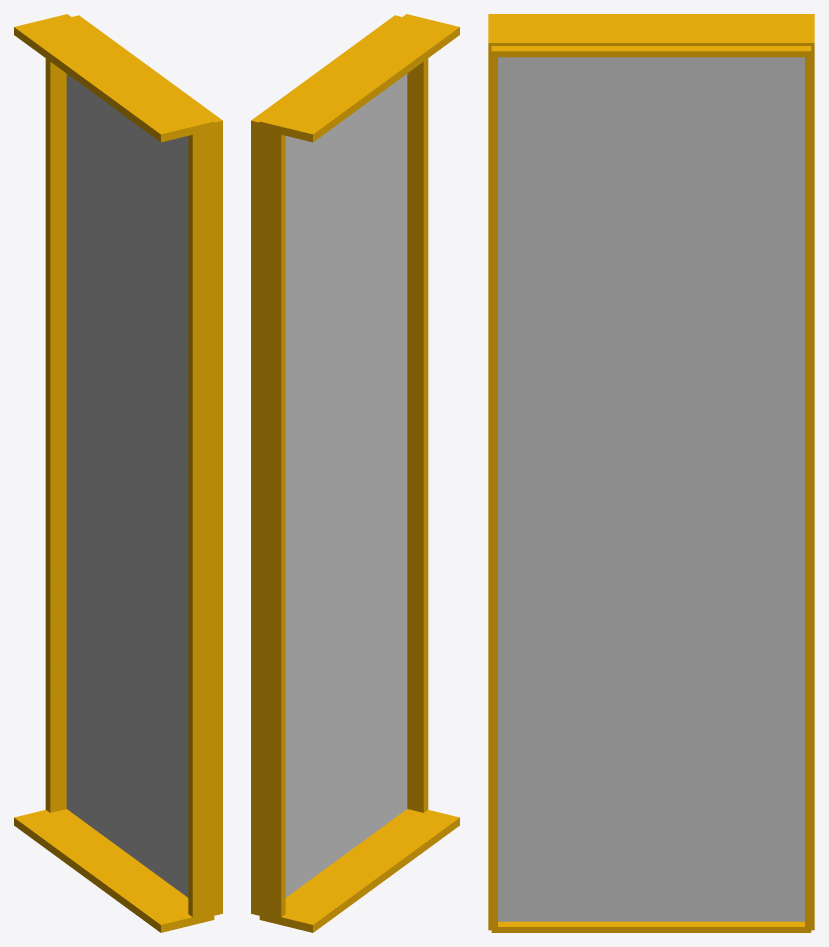
File: curtain_wall_4x1x12.dae
3 renders of one model, left to right at view 1: azimuth 30°, elevation 25°; view 2: azimuth 150°, elevation 25°; view 3: azimuth 270°, elevation 25°, orthographic. The views are drawn at different scales.
Parts seen in each view (by area): view 1: Cube; view 2: Cube; view 3: Cube.
Boxes of the visible parts, x1=… form: Cube: x1=14, y1=14, x2=222, y2=932; Cube: x1=251, y1=14, x2=459, y2=932; Cube: x1=488, y1=14, x2=814, y2=932.
Size of the model in its own units: 0.25 by 1 by 3.
